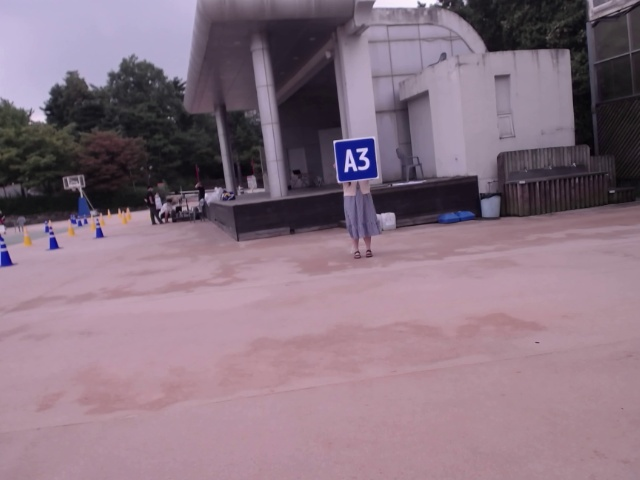delivery_a3: (334, 137, 379, 183)
